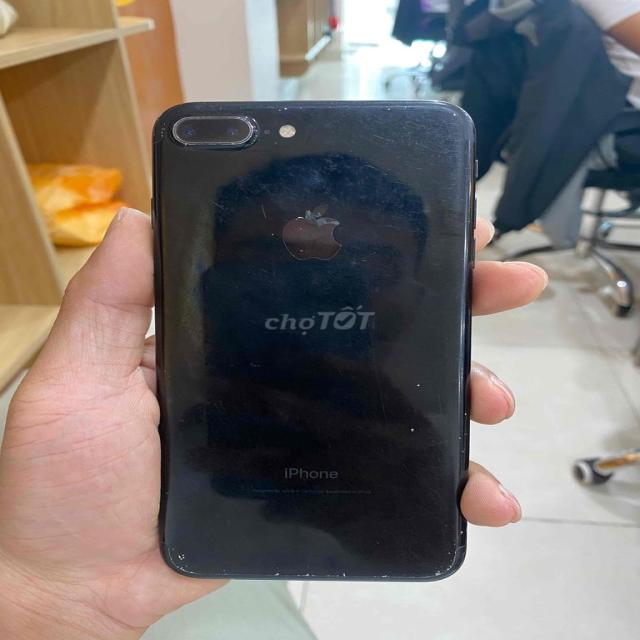scratch: (144, 99, 468, 148), (153, 545, 473, 579), (205, 190, 284, 240), (290, 202, 348, 254), (450, 409, 473, 460), (408, 374, 421, 436), (446, 525, 470, 542)
